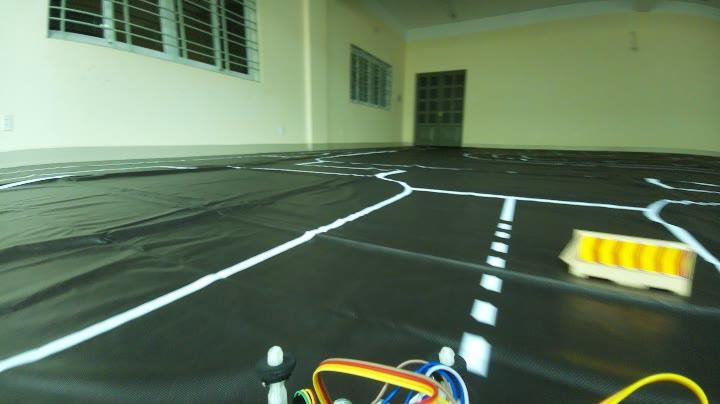roadblock: (559, 219, 700, 302)
